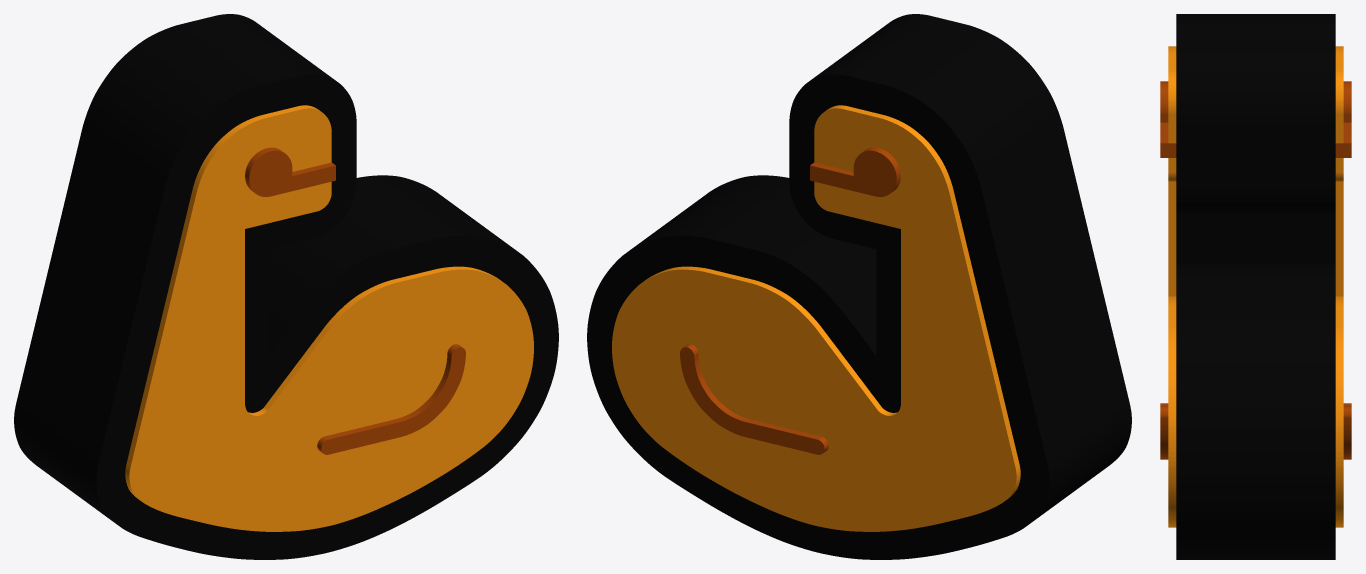
3 views of the same model, side by side, from view 1: azimuth 30°, elevation 25°; view 2: azimuth 150°, elevation 25°; view 3: azimuth 270°, elevation 25° (orthographic). The views are drawn at different scales.
Visible parts, largest first — view 1: U+1F4AA_layer00_obj00, U+1F4AA_layer01_obj00, U+1F4AA_layer02_obj00; view 2: U+1F4AA_layer00_obj00, U+1F4AA_layer01_obj00, U+1F4AA_layer02_obj00; view 3: U+1F4AA_layer00_obj00, U+1F4AA_layer01_obj00, U+1F4AA_layer02_obj00.
Part boxes in pixels (x1=…): U+1F4AA_layer00_obj00: x1=14, y1=14, x2=558, y2=559; U+1F4AA_layer01_obj00: x1=125, y1=105, x2=533, y2=531; U+1F4AA_layer02_obj00: x1=245, y1=147, x2=465, y2=454; U+1F4AA_layer00_obj00: x1=587, y1=14, x2=1131, y2=559; U+1F4AA_layer01_obj00: x1=612, y1=105, x2=1020, y2=531; U+1F4AA_layer02_obj00: x1=680, y1=147, x2=900, y2=454; U+1F4AA_layer00_obj00: x1=1176, y1=14, x2=1335, y2=559; U+1F4AA_layer01_obj00: x1=1168, y1=46, x2=1343, y2=527; U+1F4AA_layer02_obj00: x1=1160, y1=81, x2=1351, y2=459.
Bounding box in the file's own units: 0.6491 × 0.649 × 0.24.
